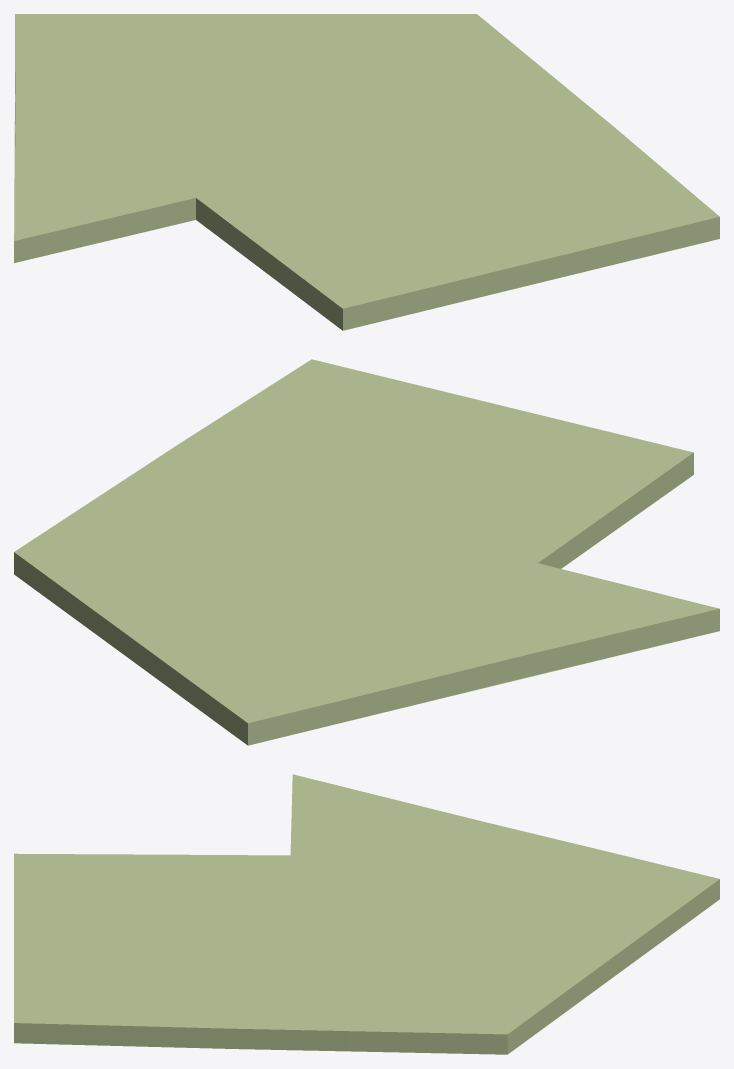
The model's file is ground_6.gltf.
The picture shows the model from 3 angles, top to bottom: view 1: azimuth 30°, elevation 25°; view 2: azimuth 150°, elevation 25°; view 3: azimuth 270°, elevation 25°; orthographic projection. The views are drawn at different scales.
Visible parts, largest first — view 1: seongho_amphitheater; view 2: seongho_amphitheater; view 3: seongho_amphitheater.
Boxes of the visible parts, left/top/right/bottom form: seongho_amphitheater: left=14, top=14, right=719, bottom=330; seongho_amphitheater: left=14, top=359, right=719, bottom=745; seongho_amphitheater: left=14, top=774, right=719, bottom=1054.
Bounding box in the file's own units: 10.86 × 0.395 × 12.45.
